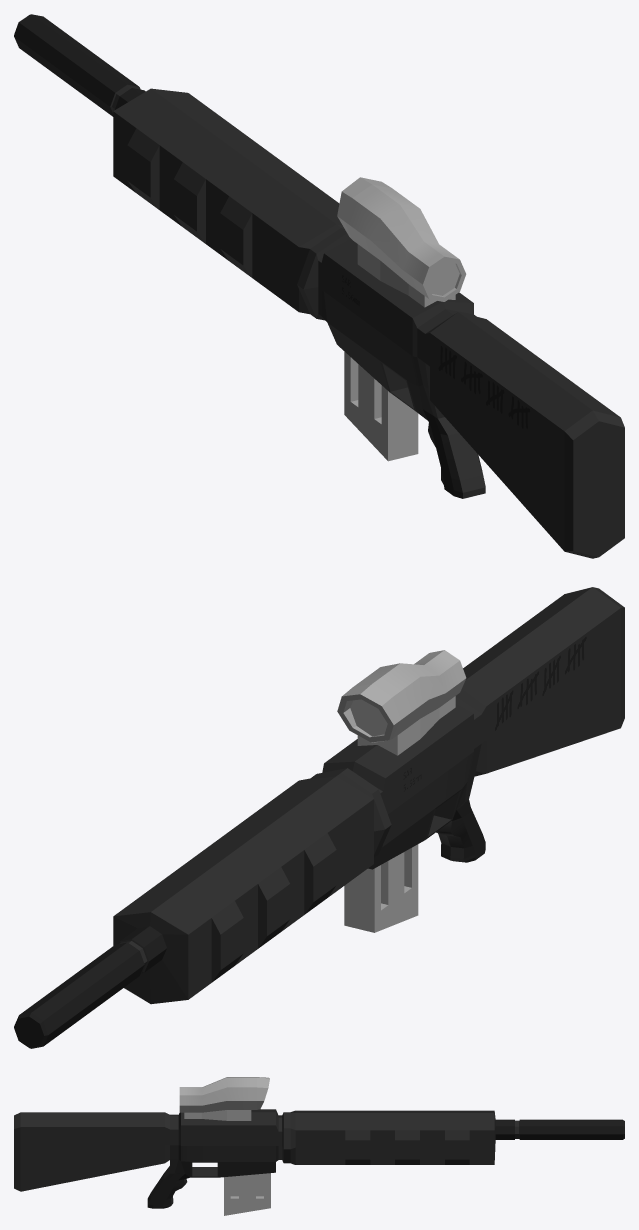
File: SAR.fbx
3 views of the same model, one above another, from view 1: azimuth 30°, elevation 25°; view 2: azimuth 150°, elevation 25°; view 3: azimuth 270°, elevation 25° (orthographic). The views are drawn at different scales.
Visible parts, largest first — view 1: polySurface4, polySurface2, polySurface1; view 2: polySurface4, polySurface2, polySurface1; view 3: polySurface4, polySurface2, polySurface1.
Part boxes in pixels (x1,y1,x2,y2): polySurface4: (14, 14, 624, 558); polySurface2: (337, 177, 466, 307); polySurface1: (344, 351, 418, 461); polySurface4: (14, 587, 624, 1048); polySurface2: (337, 650, 466, 755); polySurface1: (344, 844, 418, 932); polySurface4: (14, 1109, 624, 1208); polySurface2: (179, 1077, 269, 1120); polySurface1: (224, 1173, 270, 1215).
Bounding box in the file's own units: 0.8283 × 2.13 × 8.77.
Materials: 2 (1 with a texture image).
